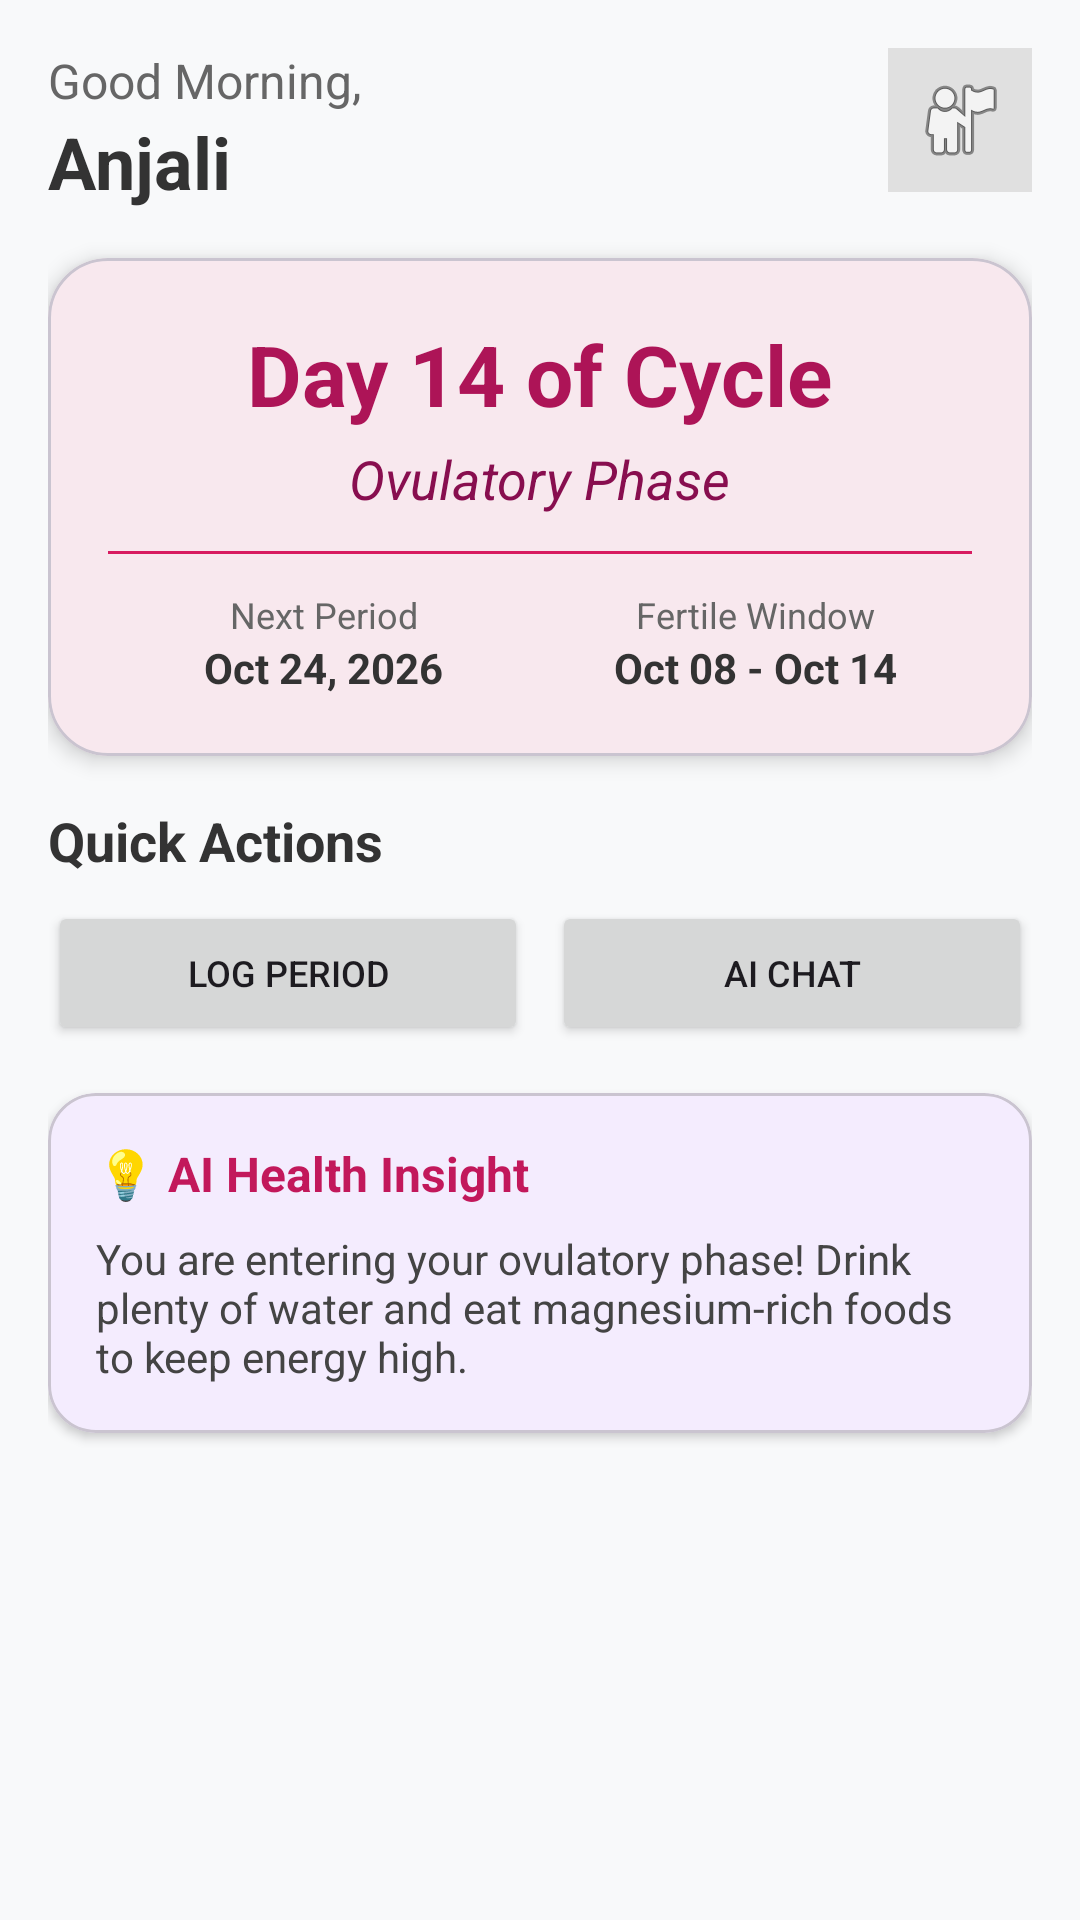

Where to tap for icons on this 1080×1920 app screen, as (x=x, y=y):
myplaces: (x=960, y=120)
